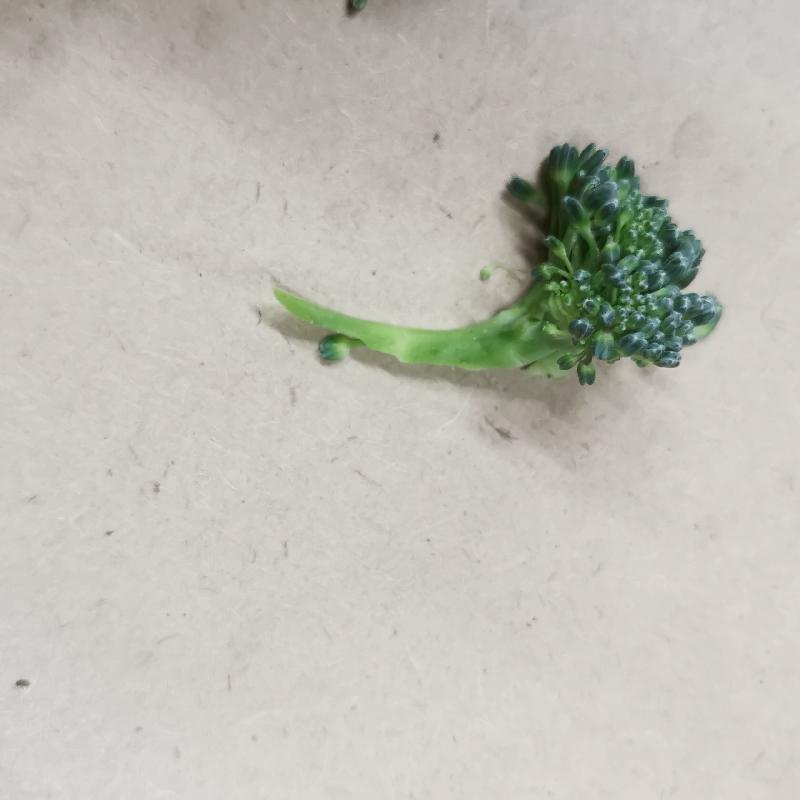broccoli: (260, 140, 727, 391)
